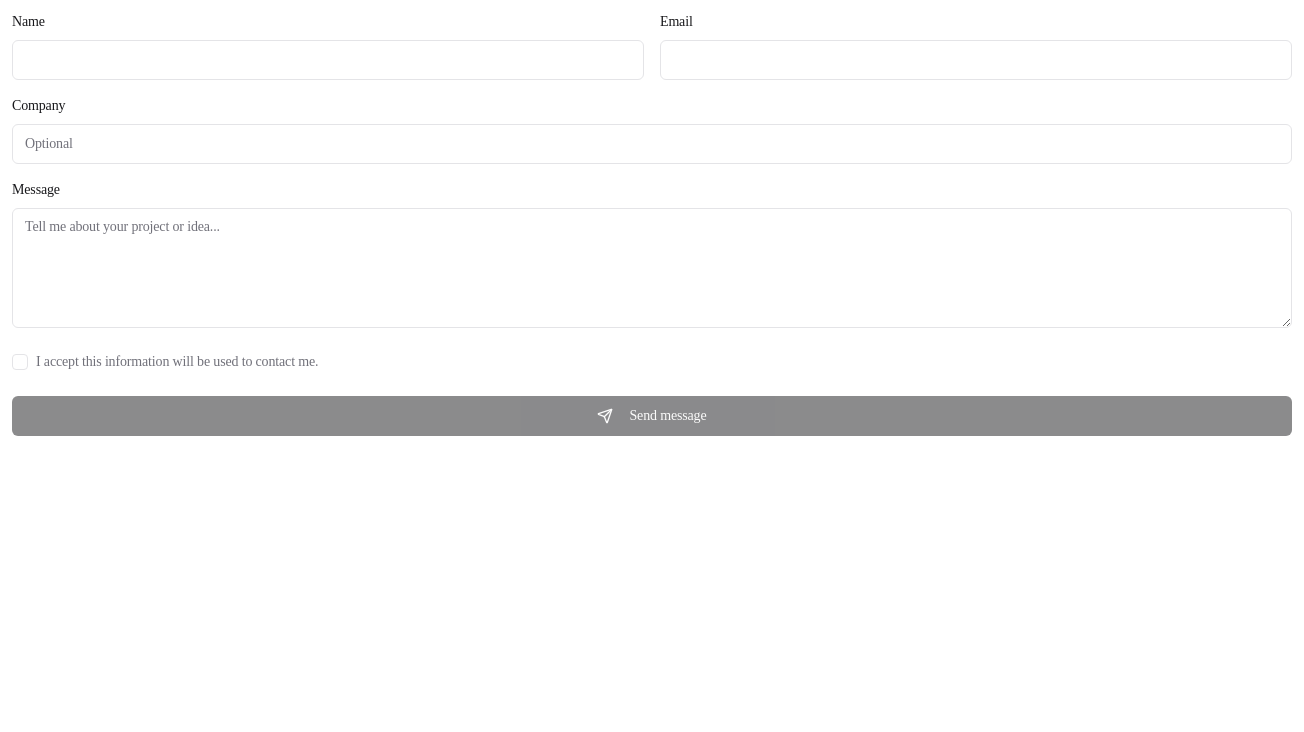
Test: ContactForm › surfaces the Web3Forms error message when submission is rejected
In the field labelled "Name": (328, 60) [12, 40, 644, 80], type "Test User"
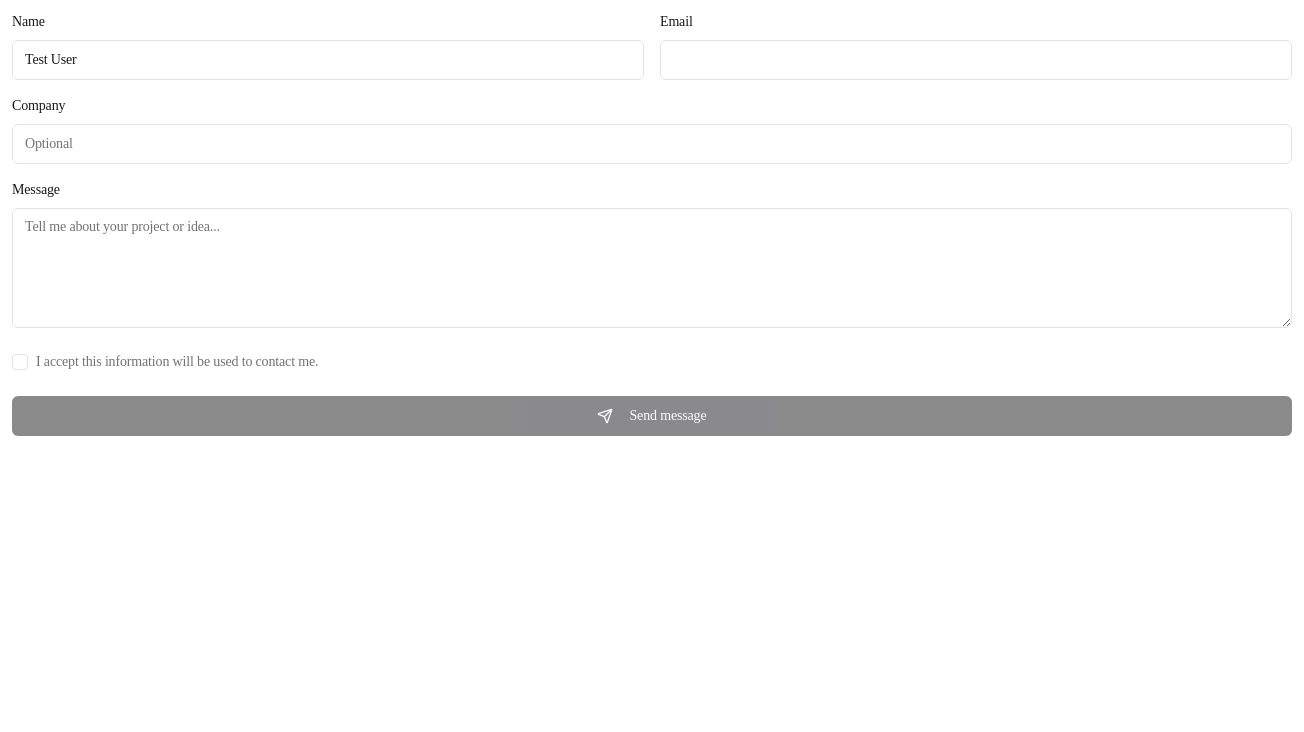
In the field labelled "Email": (976, 60) [660, 40, 1292, 80], type "test@example.com"
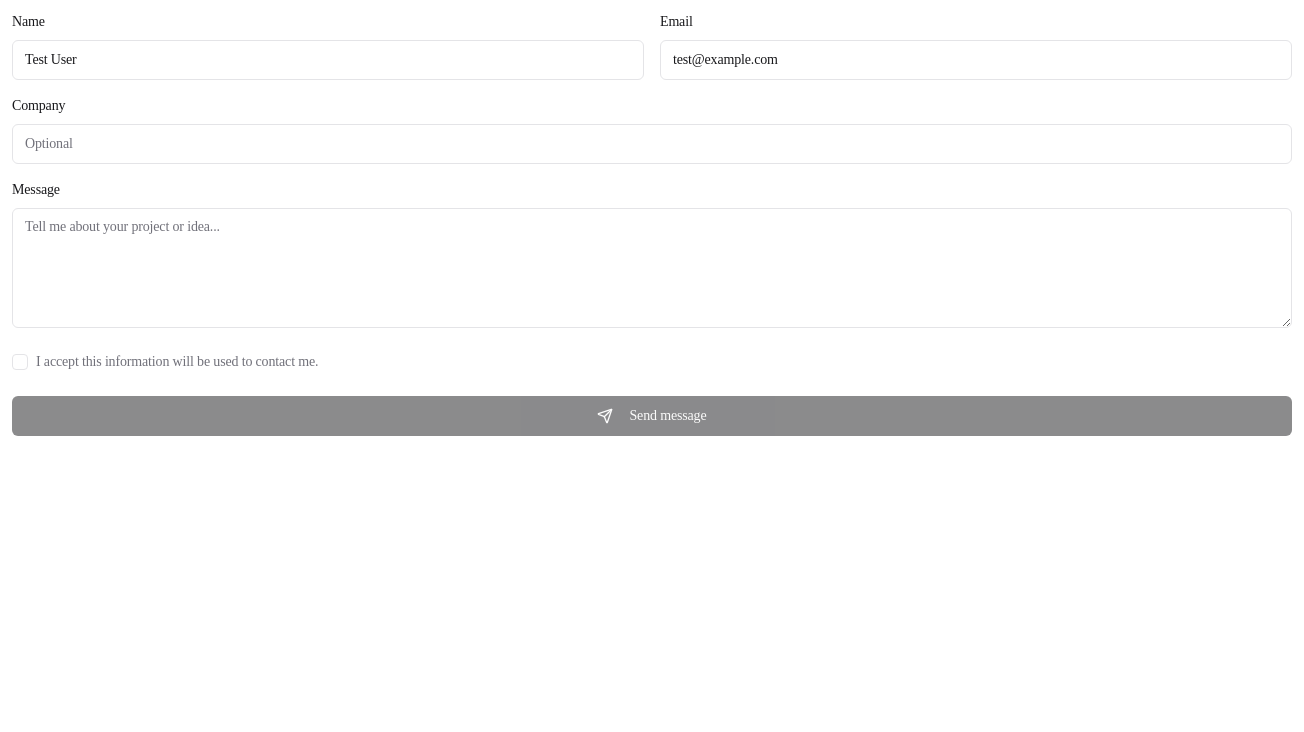
In the text box labelled "Message": (652, 268) [12, 208, 1292, 328], type "Hello from the test suite!"
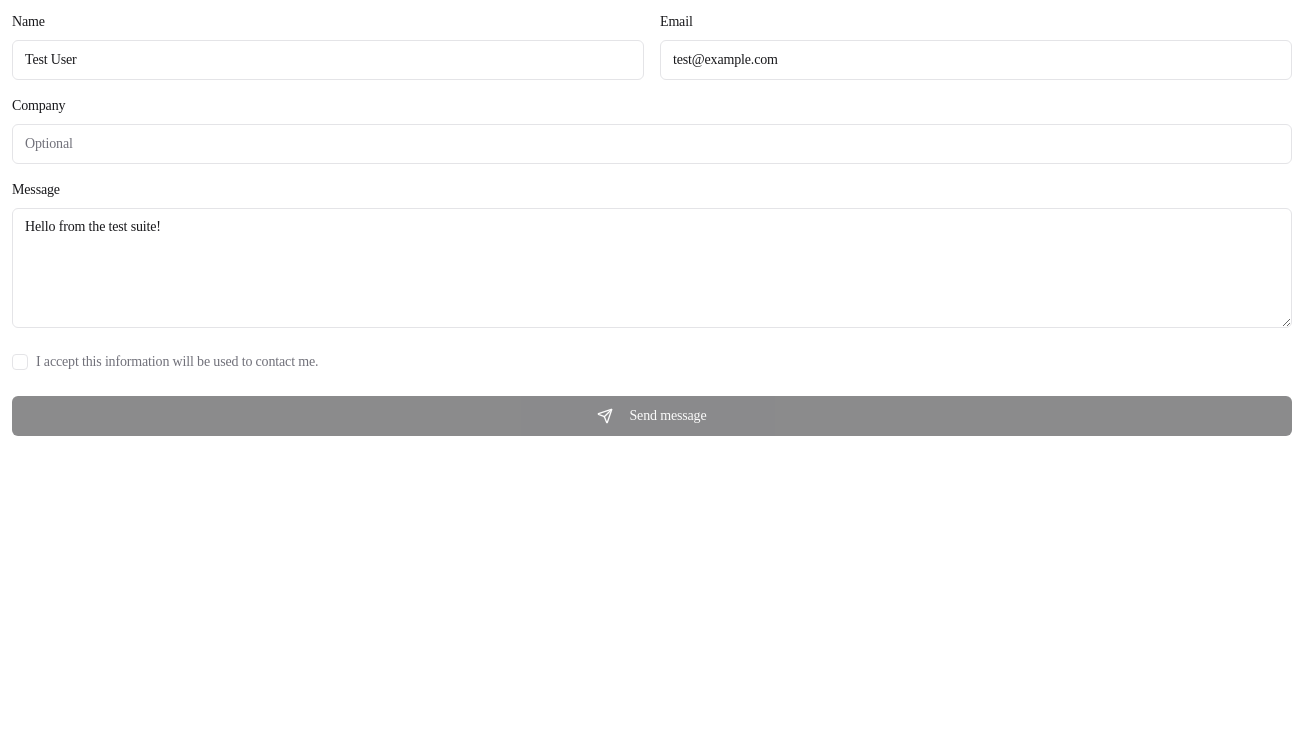
Click the checkbox: click(20, 362) [12, 354, 28, 370]
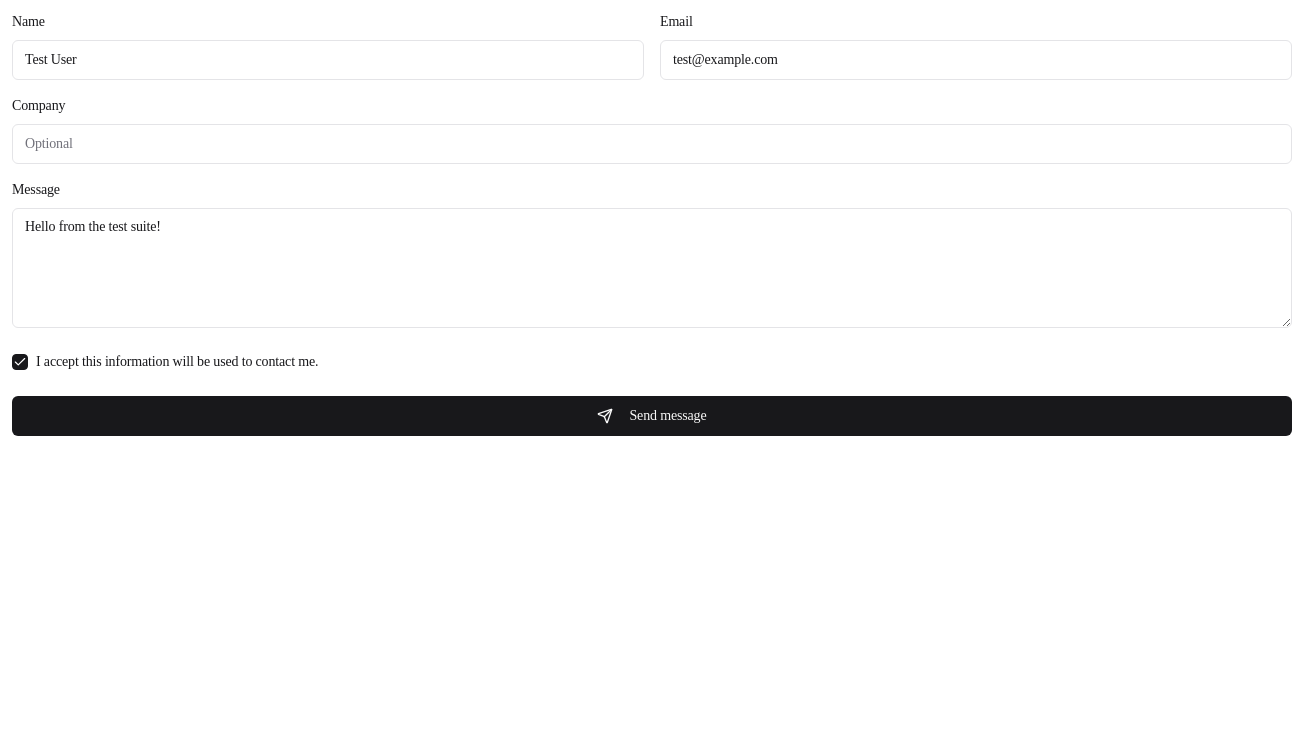
Click the button "Send message": click(652, 416) [12, 396, 1292, 436]
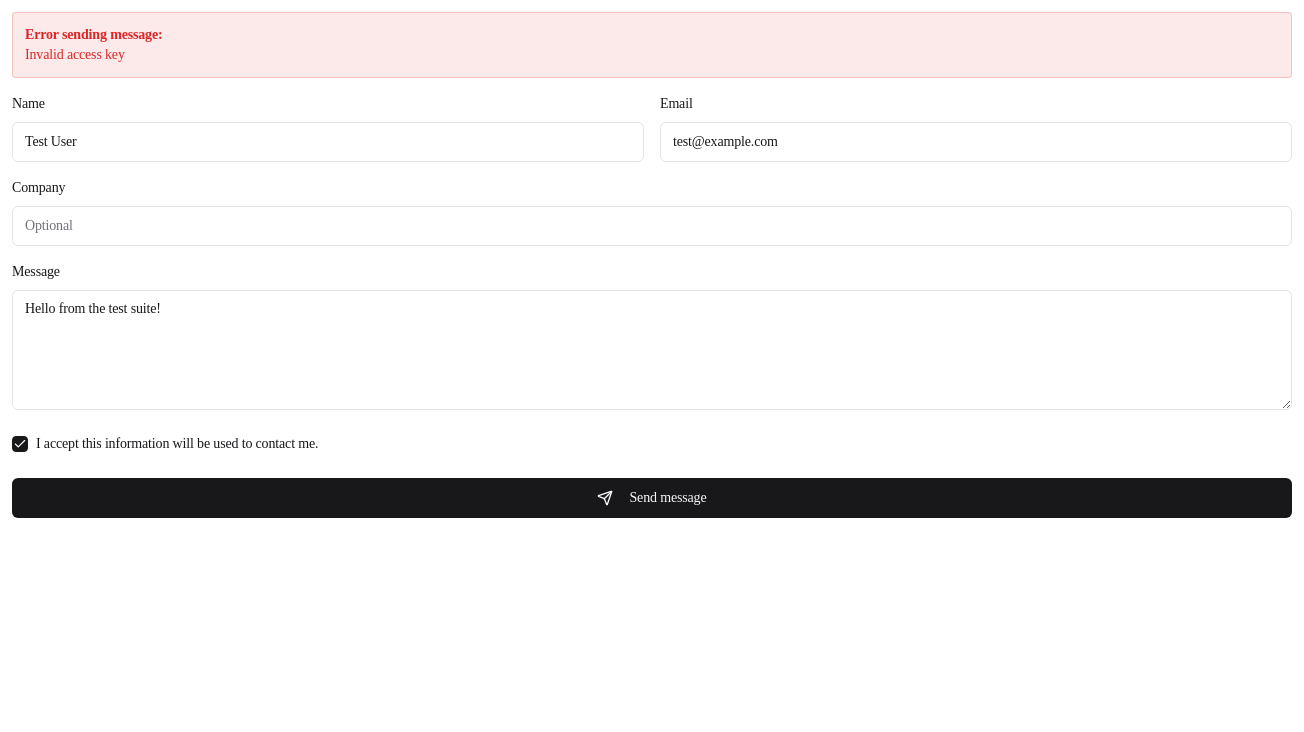
Now the text "Invalid access key" is shown, box [25, 47, 125, 62]
